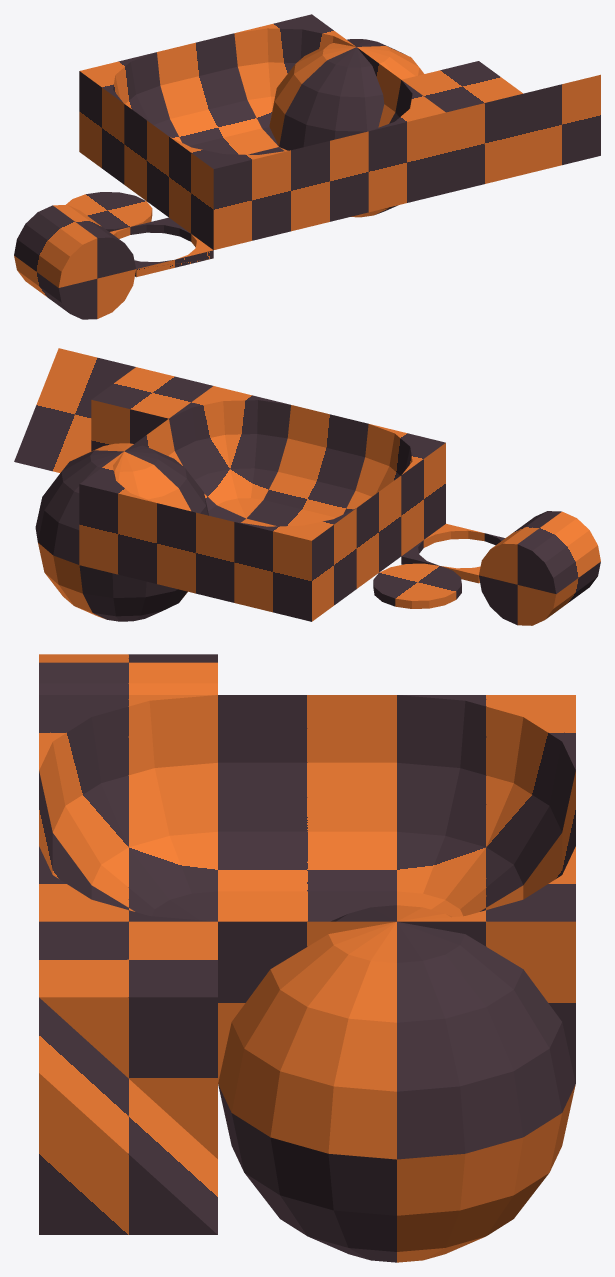
Rendered from world-v2.glb.
3 views of the same model, one above another, from view 1: azimuth 30°, elevation 25°; view 2: azimuth 150°, elevation 25°; view 3: azimuth 270°, elevation 25° (orthographic). The views are drawn at different scales.
Parts seen in each view (by area): view 1: corner.002, Sphere, Cylinder.002, 1x1, Cube.005, corner, corner.003, Cube.001, Cube.002, corner.001, Cube.004, Cylinder (+2 smaller); view 2: Sphere, corner, corner.003, Cylinder.002, Cube.001, Cube.002, corner.002, corner.001, Cube.005, 1x1, Cube.004, Cylinder (+2 smaller); view 3: Sphere, Cube.004, corner.002, corner.003, 1x1, Cube.002, corner.001, Cylinder.002, Cube.003, corner, Cube.001, Cube.005.
Boxes of the visible parts, box(x1,y1,x2,y2) form: corner.002: box(169, 136, 290, 250); Sphere: box(269, 39, 423, 217); Cylinder.002: box(14, 205, 135, 319); 1x1: box(401, 61, 523, 193); Cube.005: box(157, 33, 278, 154); corner: box(368, 80, 445, 212); corner.003: box(79, 52, 181, 184); Cube.001: box(291, 131, 368, 231); Cube.002: box(523, 74, 600, 174); corner.001: box(234, 14, 355, 146); Cube.004: box(124, 104, 168, 217); Cylinder: box(66, 192, 152, 231); Sphere: box(35, 443, 208, 621); corner: box(169, 386, 290, 518); corner.003: box(234, 508, 356, 621); Cylinder.002: box(479, 511, 600, 625); Cube.001: box(247, 405, 368, 526); Cube.002: box(14, 348, 135, 472); corner.002: box(343, 424, 445, 555); corner.001: box(79, 452, 156, 583); Cube.005: box(157, 503, 234, 602); 1x1: box(91, 367, 212, 451); Cube.004: box(356, 476, 401, 588); Cylinder: box(373, 563, 461, 608); Sphere: box(218, 905, 575, 1262); Cube.004: box(218, 695, 396, 921); corner.002: box(39, 695, 217, 921); corner.003: box(397, 695, 575, 916); 1x1: box(39, 921, 217, 1158); Cube.002: box(39, 997, 217, 1234); corner.001: box(397, 846, 575, 1083); Cylinder.002: box(39, 654, 217, 694); Cube.003: box(218, 921, 396, 1082); corner: box(39, 846, 214, 921); Cube.001: box(39, 771, 134, 911); Cube.005: box(480, 771, 575, 911).
Bounding box in the file's own units: 70 × 20 × 30.
5 materials, 5 textured.
